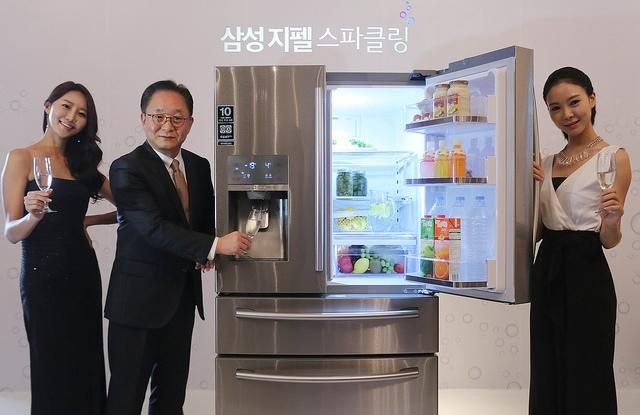grape: (380, 260, 386, 267), (372, 254, 378, 259), (382, 267, 388, 272), (382, 256, 388, 260), (386, 270, 392, 274), (386, 258, 392, 262), (365, 249, 370, 253), (391, 269, 395, 274), (361, 249, 365, 253), (355, 248, 359, 251)
